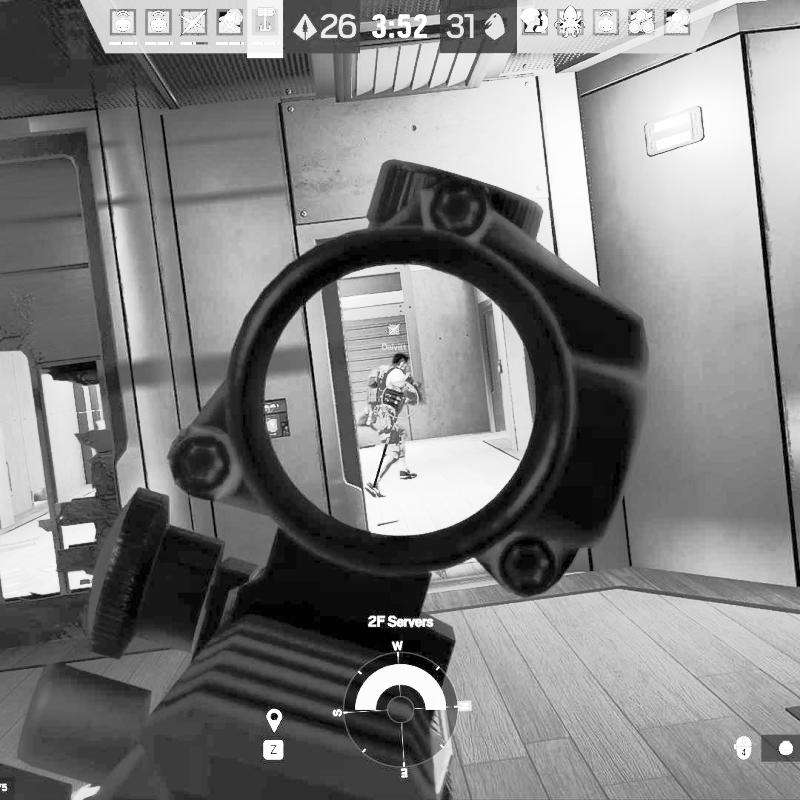Character: (355, 350, 426, 499)
Friend_label: (382, 322, 409, 351)
Head: (390, 351, 412, 370)
